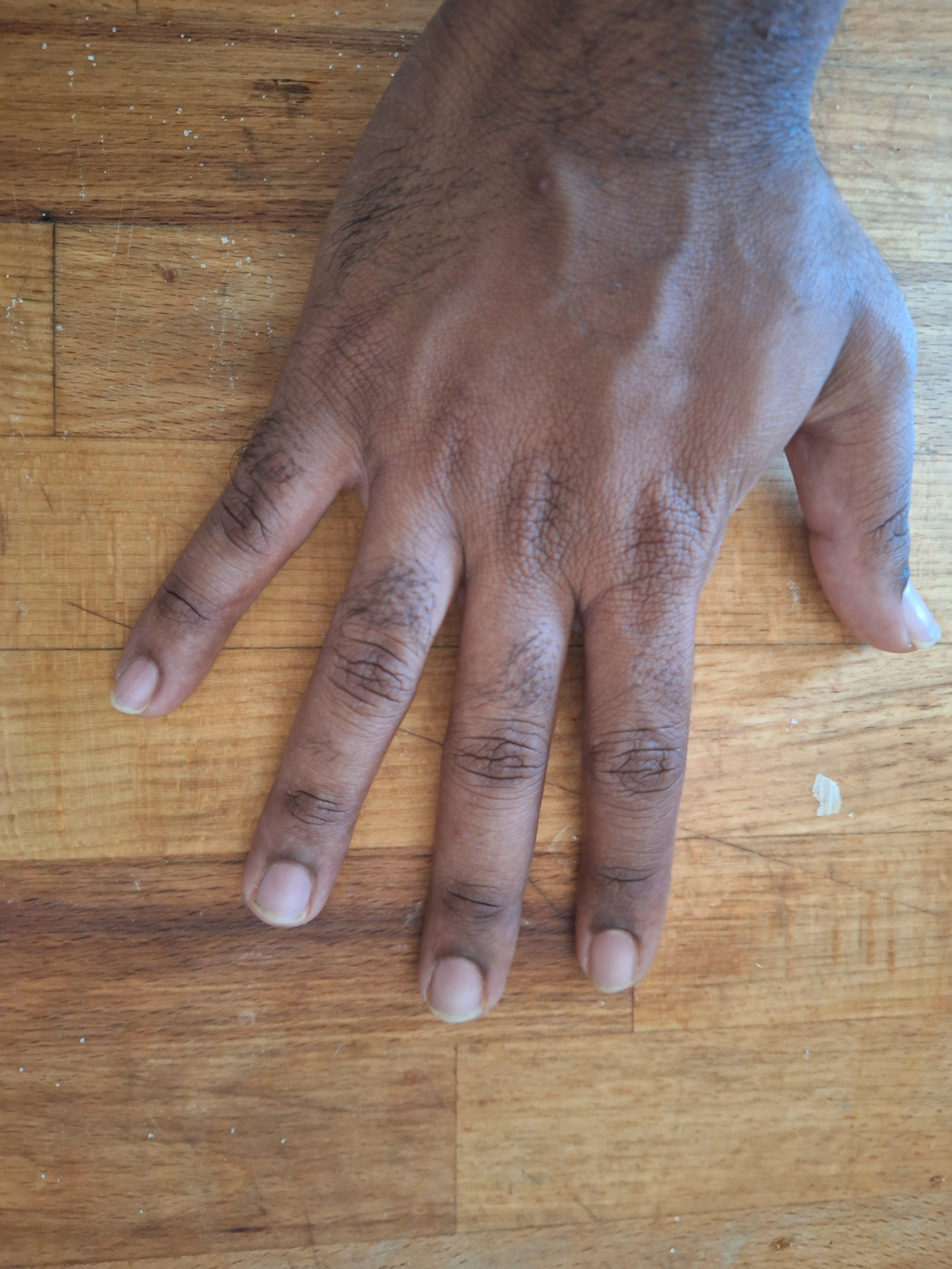Fingernail: (428, 956, 484, 1023), (255, 864, 312, 925), (589, 931, 638, 995), (902, 581, 942, 650), (110, 660, 156, 716)
